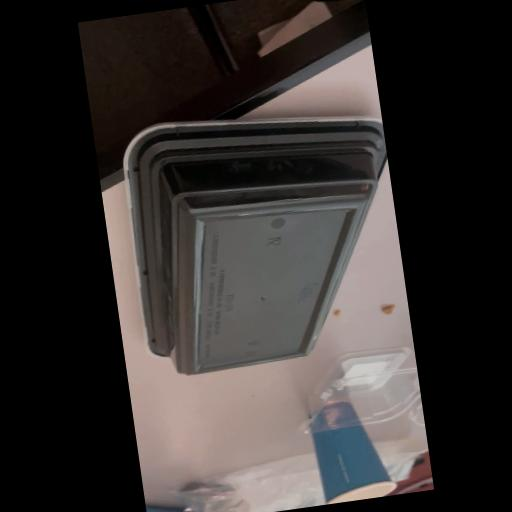lp_paper_cup: (306, 394, 398, 505)
rigid_plastic_container: (118, 100, 409, 378)
